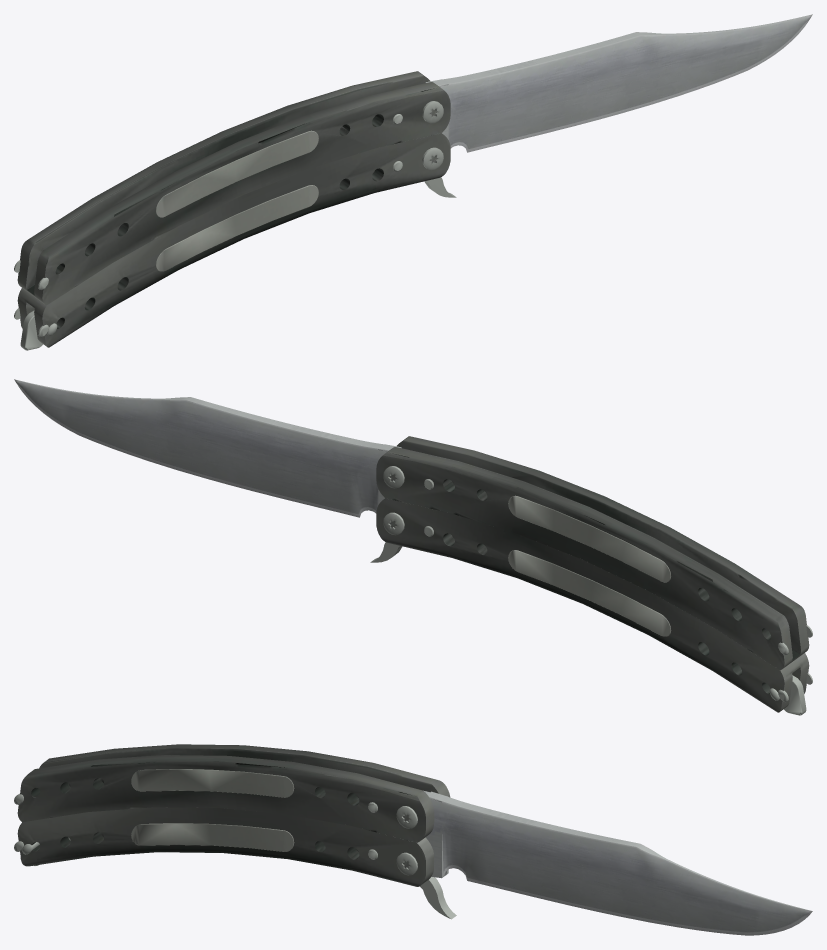
The model's file is butterfly_lod1.glb.
3 views of the same model, one above another, from view 1: azimuth 30°, elevation 25°; view 2: azimuth 150°, elevation 25°; view 3: azimuth 330°, elevation 25° (orthographic).
Parts seen in each view (by area): view 1: handle_safe_mesh, body, handle_bite_mesh; view 2: handle_safe_mesh, body, handle_bite_mesh; view 3: handle_safe_mesh, body, handle_bite_mesh.
Part boxes in pixels (x1,y1,x2,y2): handle_safe_mesh: (14,71,450,305); body: (425,14,812,152); handle_bite_mesh: (14,133,456,350); handle_safe_mesh: (376,436,812,670); body: (14,379,401,517); handle_bite_mesh: (370,498,812,715); handle_safe_mesh: (14,744,450,842); body: (423,790,812,935); handle_bite_mesh: (14,807,456,919).
Size of the model in its own units: 0.239 by 0.0504 by 0.0147.
5 materials, 5 textured.
